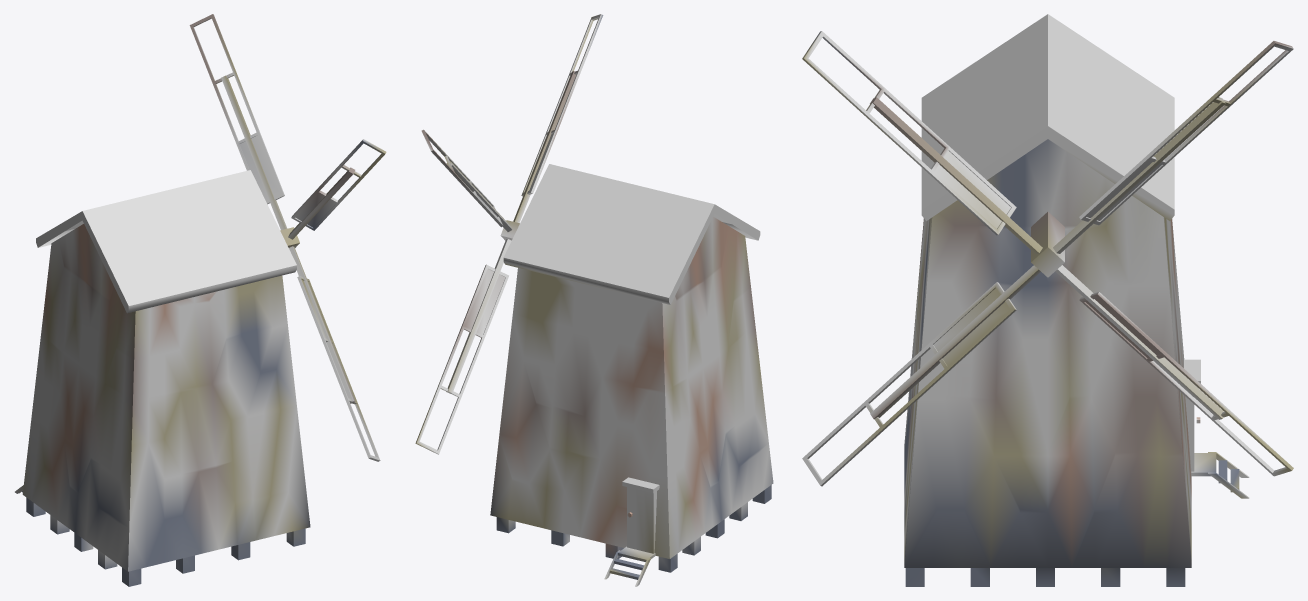
The model's file is MillV3.fbx.
3 views of the same model, side by side, from view 1: azimuth 30°, elevation 25°; view 2: azimuth 150°, elevation 25°; view 3: azimuth 270°, elevation 25° (orthographic). The views are drawn at different scales.
Parts seen in each view (by area): view 1: Mill; view 2: Mill; view 3: Mill.
Boxes of the visible parts, bbox=[...] form: Mill: bbox=[15, 14, 386, 586]; Mill: bbox=[415, 14, 773, 586]; Mill: bbox=[802, 14, 1293, 586].
Size of the model in its own units: 729 by 1322 by 1027.
